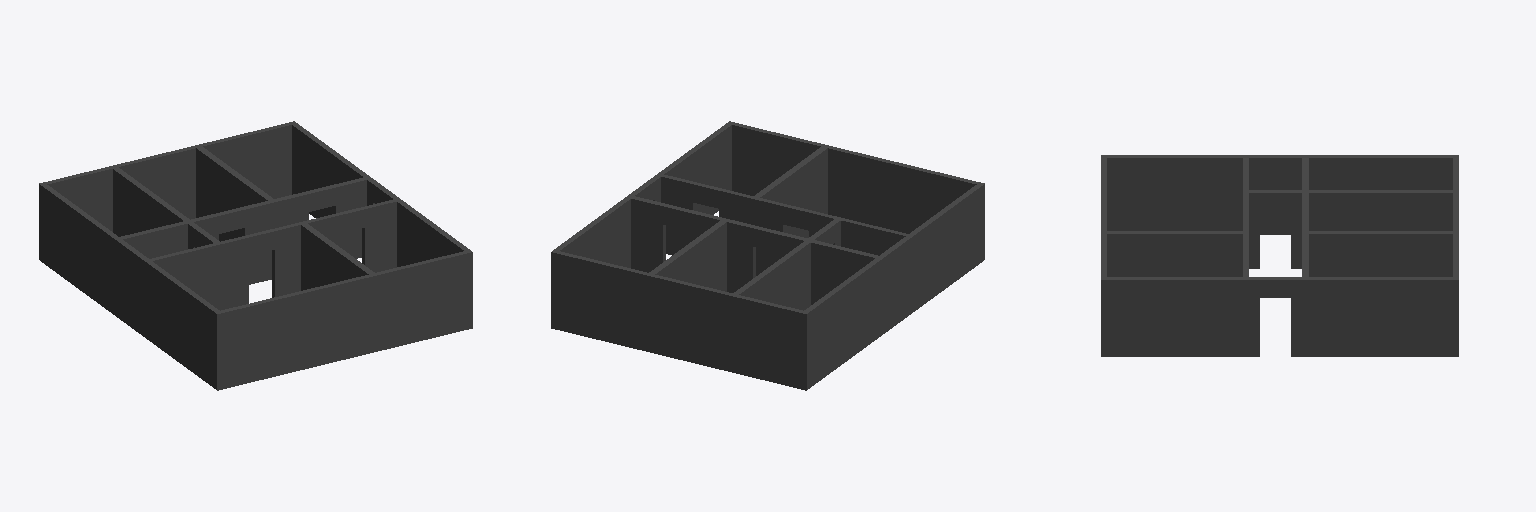
The model's file is Walls.obj.
The picture shows the model from 3 angles: view 1: azimuth 30°, elevation 25°; view 2: azimuth 150°, elevation 25°; view 3: azimuth 270°, elevation 25°; orthographic projection.
Parts seen in each view (by area): view 1: Cube; view 2: Cube; view 3: Cube.
Part boxes in pixels (bbox=[...]): Cube: bbox=[39, 121, 472, 390]; Cube: bbox=[551, 121, 984, 390]; Cube: bbox=[1101, 155, 1458, 356].
Bounding box in the file's own units: 8.97 × 2.56 × 10.85.